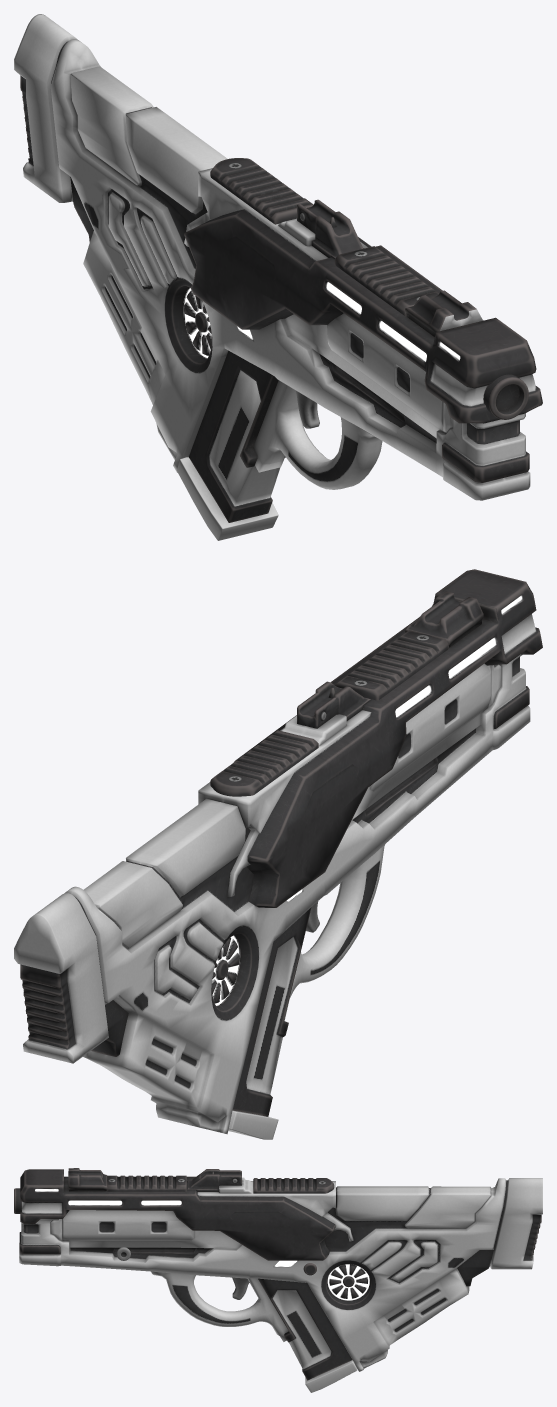
The model's file is SciFiSMG01_1.FBX.
3 views of the same model, one above another, from view 1: azimuth 30°, elevation 25°; view 2: azimuth 150°, elevation 25°; view 3: azimuth 270°, elevation 25° (orthographic). The views are drawn at different scales.
Parts seen in each view (by area): view 1: SciFiSMG01_1; view 2: SciFiSMG01_1; view 3: SciFiSMG01_1.
Part boxes in pixels (<box>): SciFiSMG01_1: <box>14,14,542,540</box>; SciFiSMG01_1: <box>14,569,542,1139</box>; SciFiSMG01_1: <box>14,1168,542,1392</box>.
Size of what is drawn, in the model's own units: 0.0869 by 0.3773 by 0.8466.
